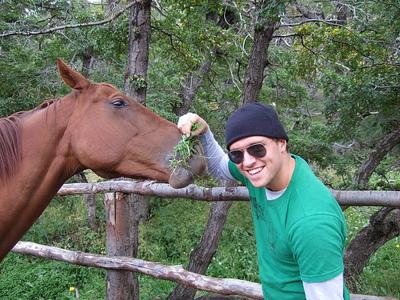person: (175, 106, 352, 300)
